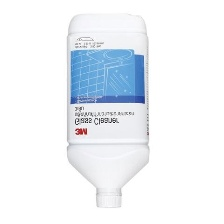cleaning_solution: (62, 10, 152, 210)
